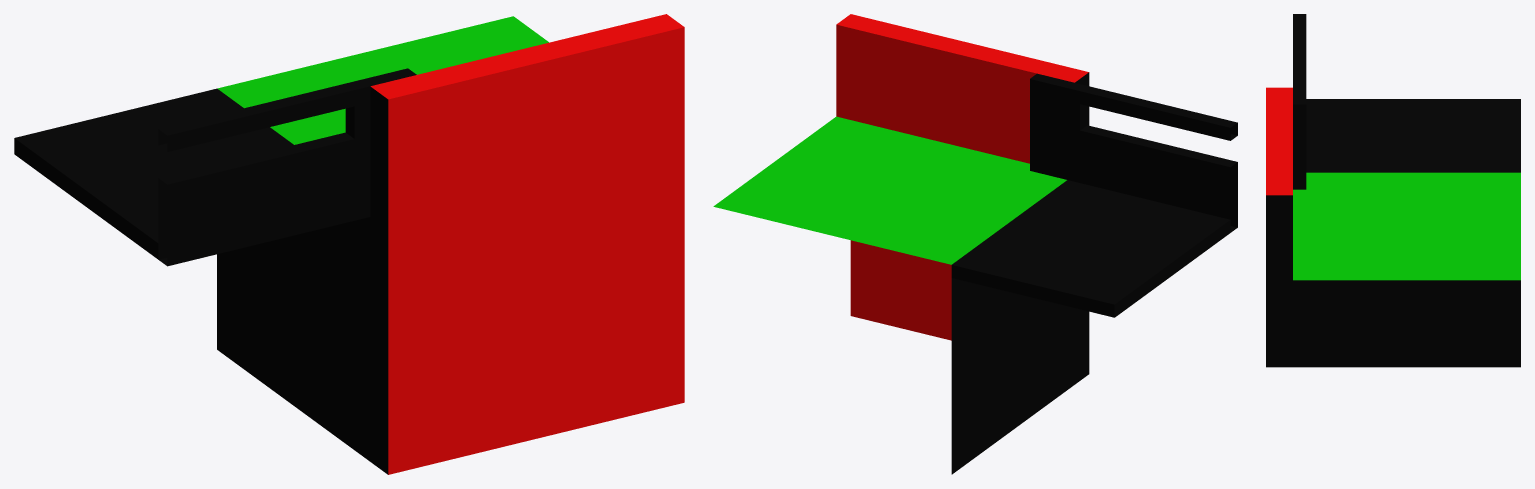
3 renders of one model, left to right at view 1: azimuth 30°, elevation 25°; view 2: azimuth 150°, elevation 25°; view 3: azimuth 270°, elevation 25°, orthographic. The views are drawn at different scales.
Parts seen in each view (by area): view 1: None_W_E_E_E_P_E_E_E_None; view 2: None_W_E_E_E_P_E_E_E_None; view 3: None_W_E_E_E_P_E_E_E_None.
Boxes of the visible parts, x1,y1,x2,y2 form: None_W_E_E_E_P_E_E_E_None: (14,14,684,474); None_W_E_E_E_P_E_E_E_None: (713,14,1237,474); None_W_E_E_E_P_E_E_E_None: (1266,14,1520,367).
Bounding box in the file's own units: 100 × 71.88 × 59.38.
